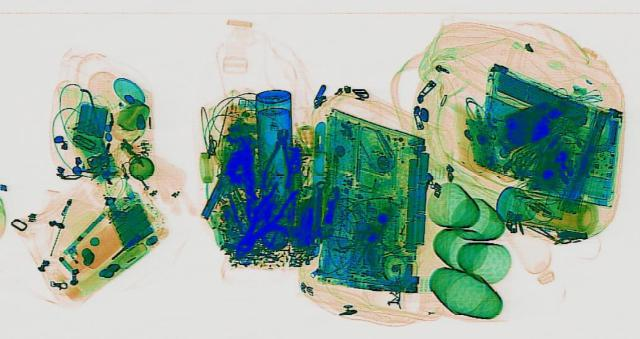Pliers: (220, 179, 302, 260), (260, 128, 298, 187)
